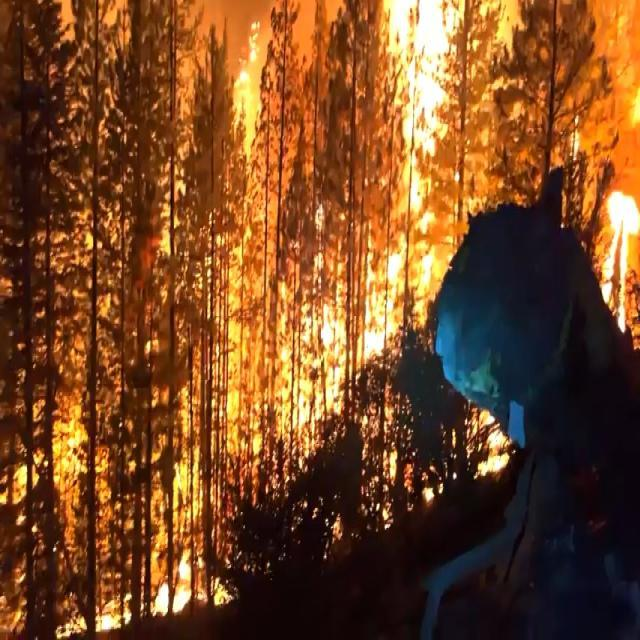Fire: (225, 0, 445, 315), (128, 338, 351, 610), (582, 166, 637, 326)
